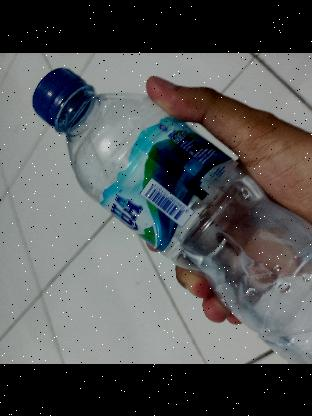Plastic Bottle: (0, 54, 312, 363)
